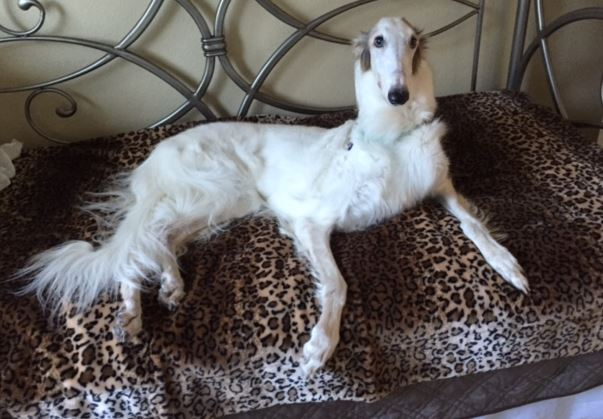borzoi: (12, 16, 559, 370)
